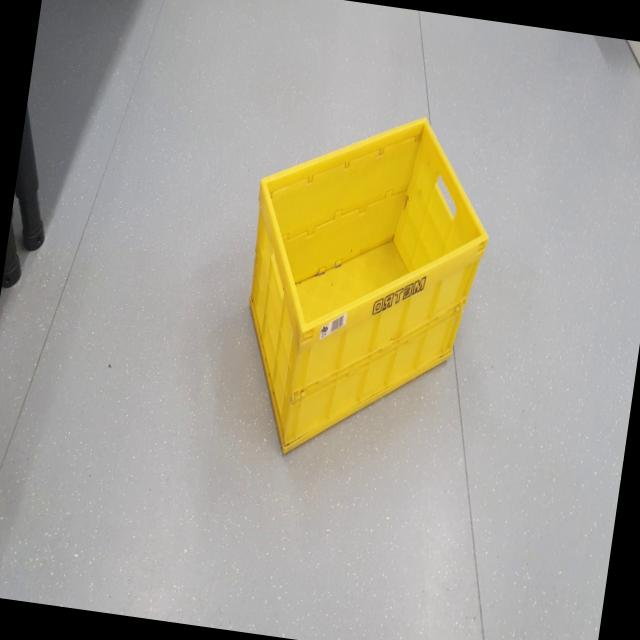box: (209, 85, 512, 512)
